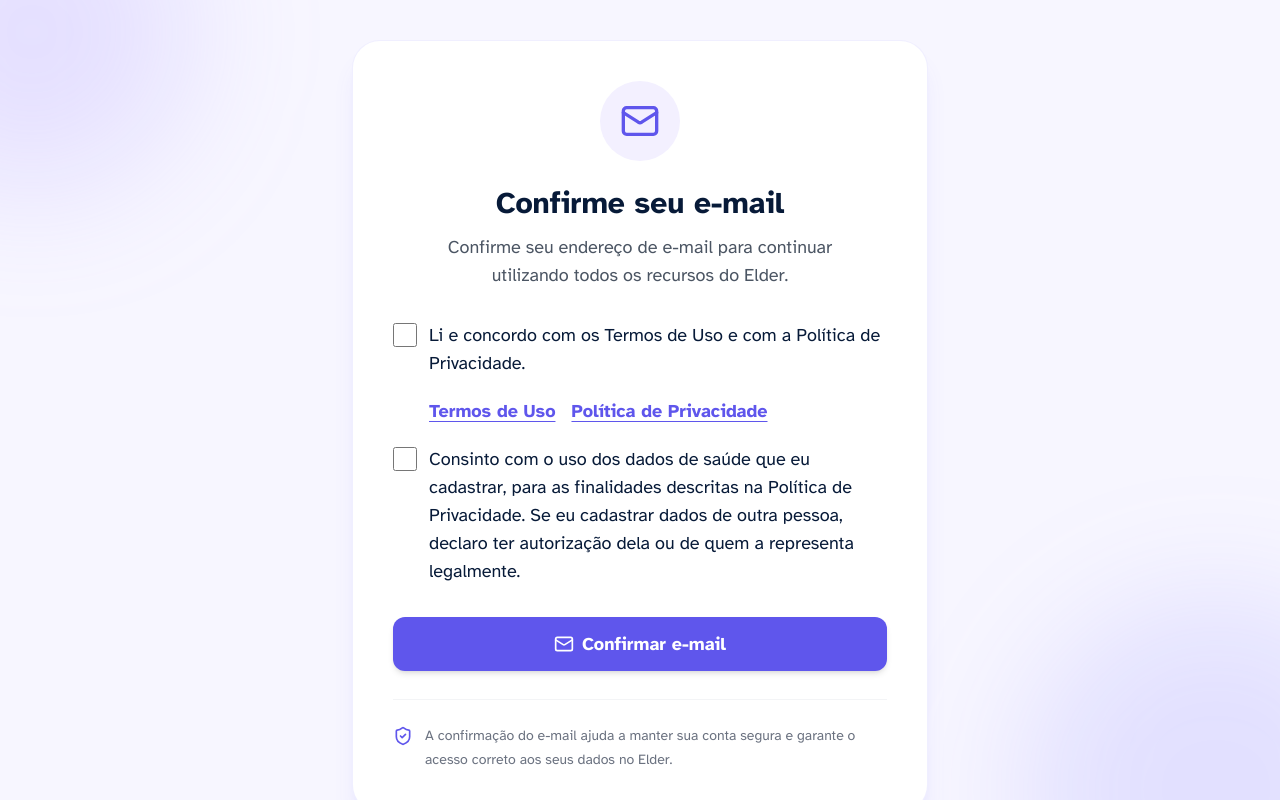
Test: ConfirmarEmail › falha em syncUser (ex.: backend fora do ar): mostra erro, não finge sucesso
Click the 1st checkbox.
click(405, 335)  # box [393,323,417,347]
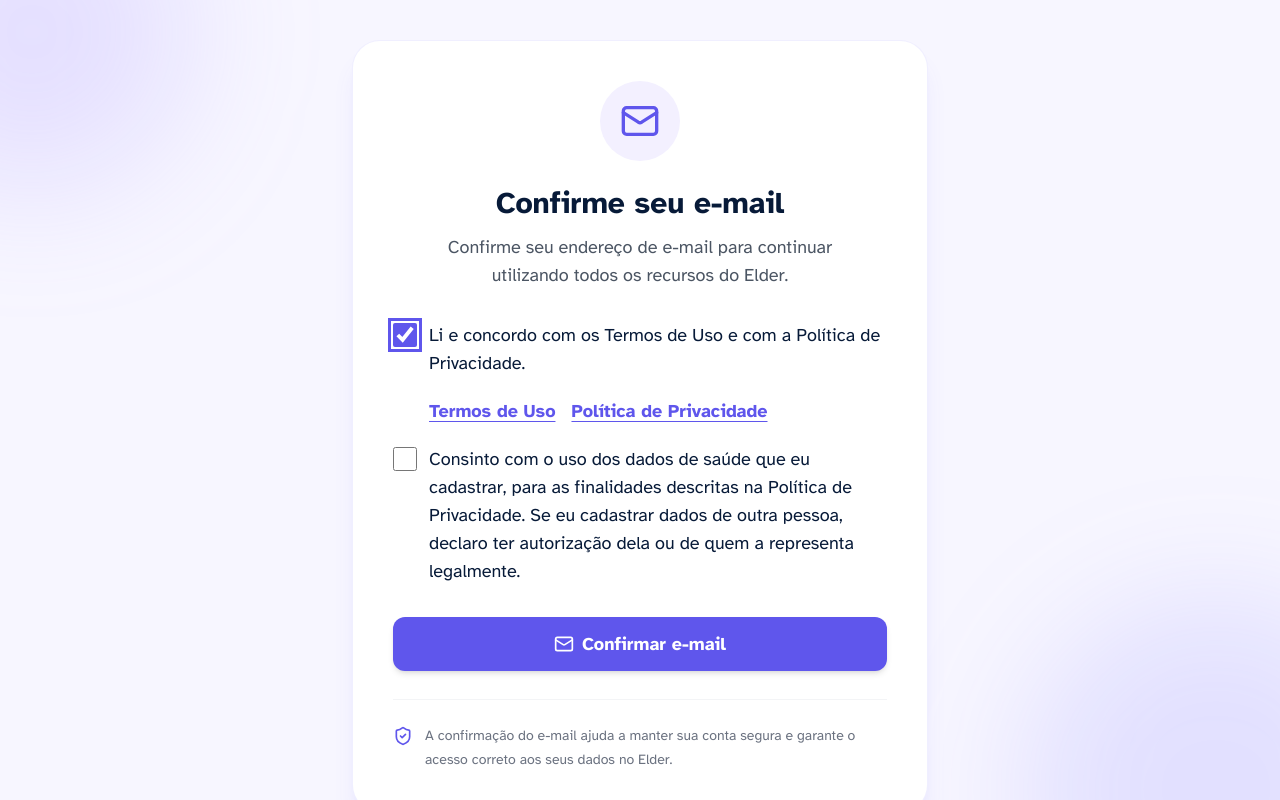
Click the 2nd checkbox.
click(405, 459)  # box [393,447,417,471]
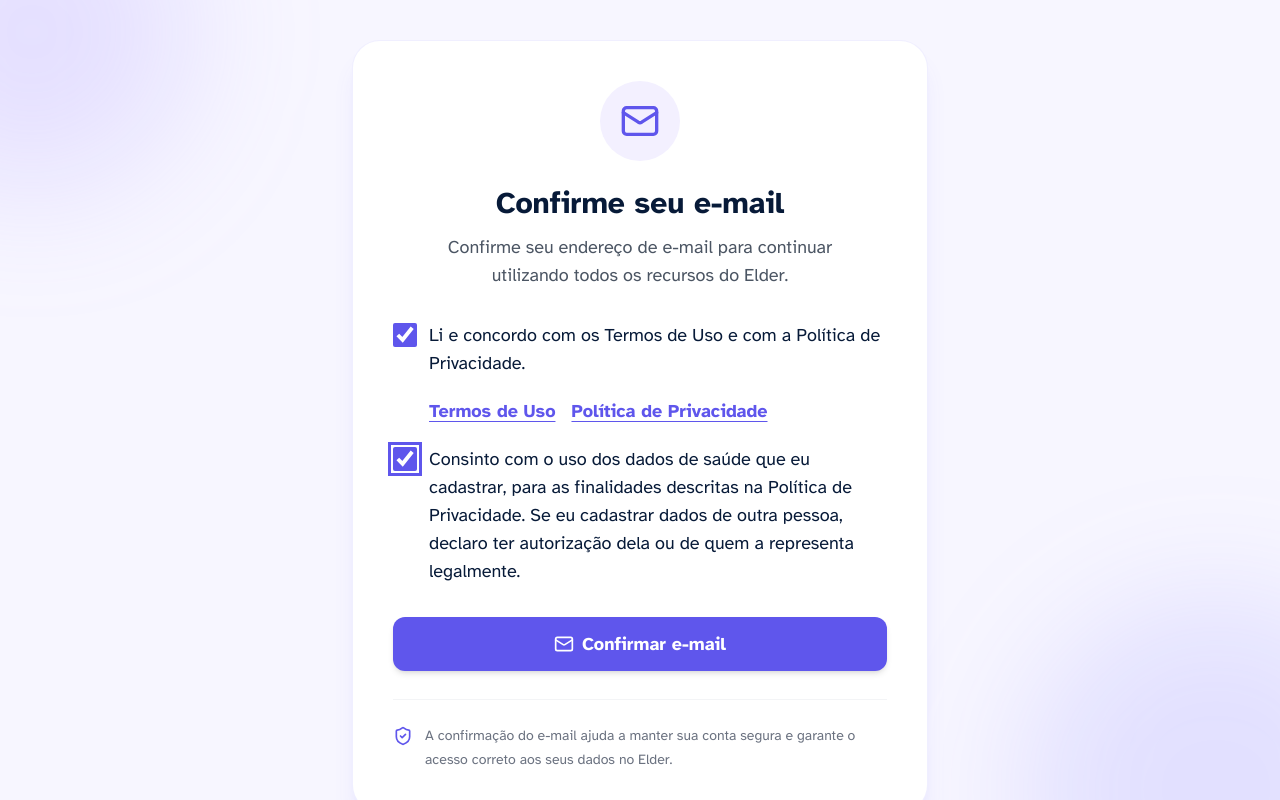
Click the button "Confirmar e-mail".
click(640, 644)  # box [393,617,887,671]
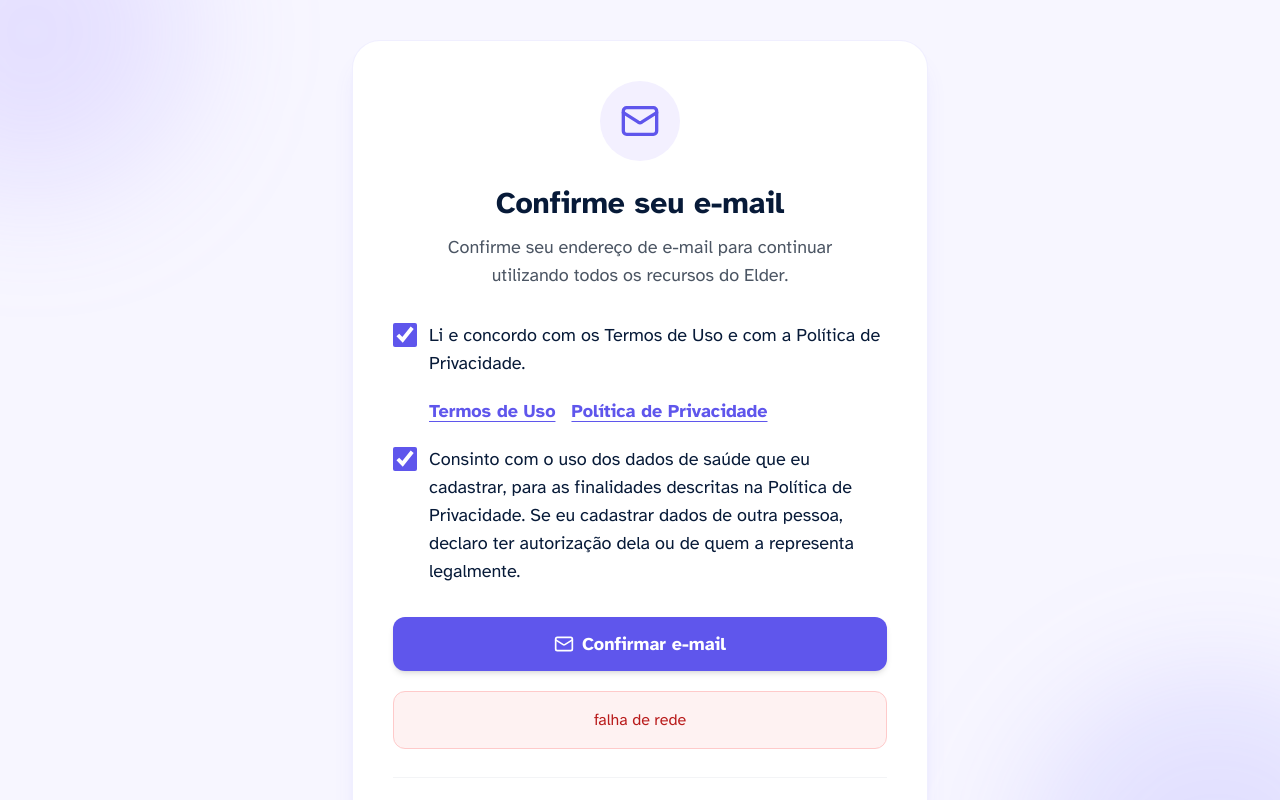
Now the message reads "falha de rede", box [594,710,686,730]
